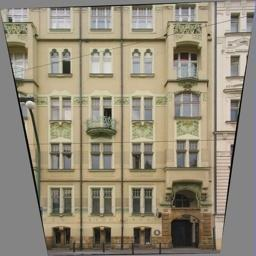building: (38, 2, 215, 256)
